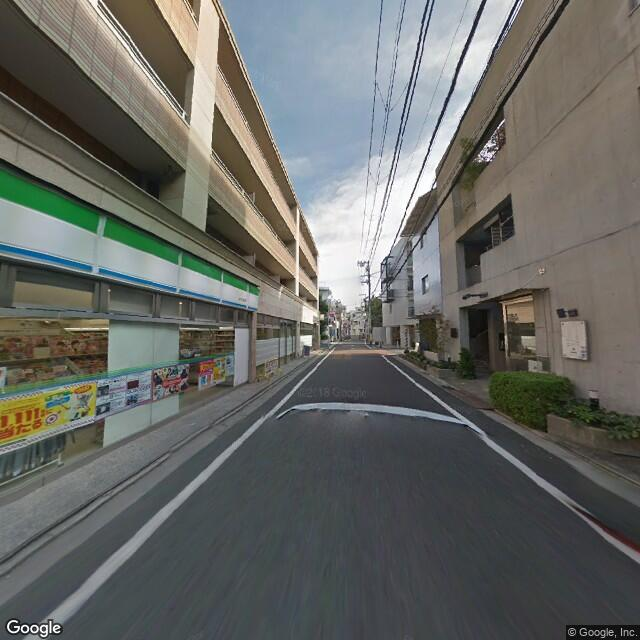family_mart: (1, 165, 258, 315)
